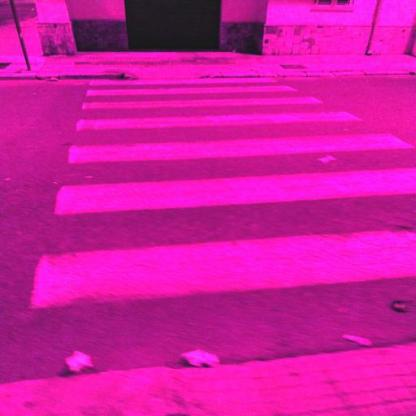crosswalk: (22, 163, 416, 321), (56, 92, 368, 136)
